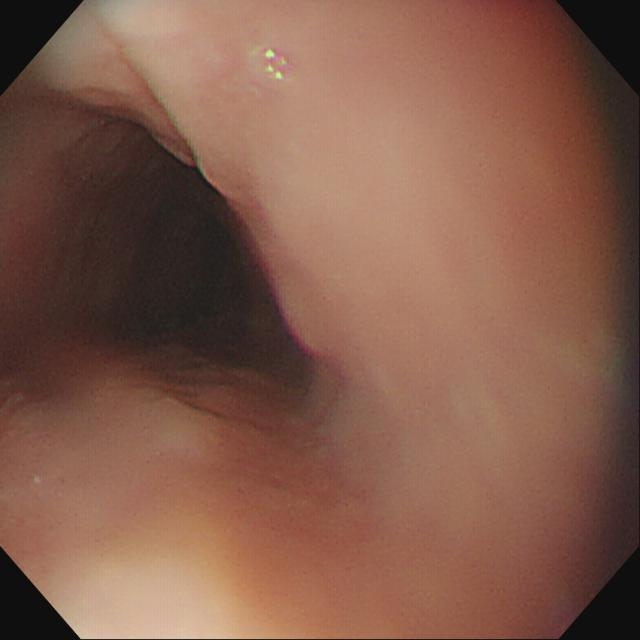E: (47, 109, 310, 391)
